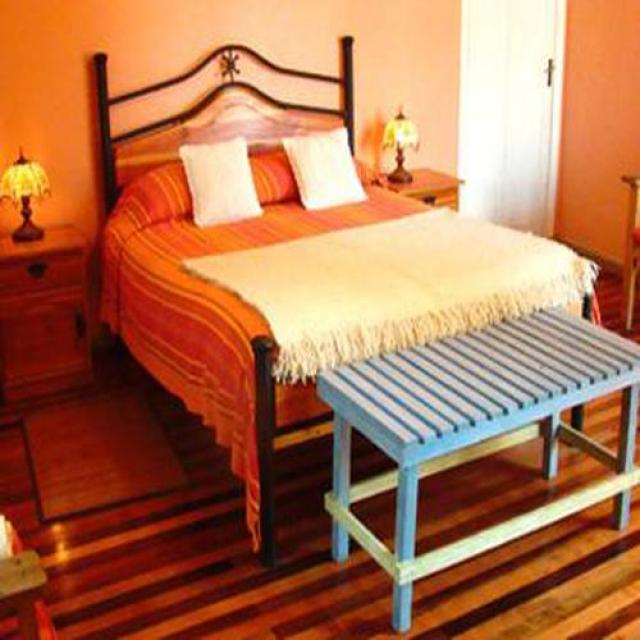bed: (86, 36, 599, 570)
